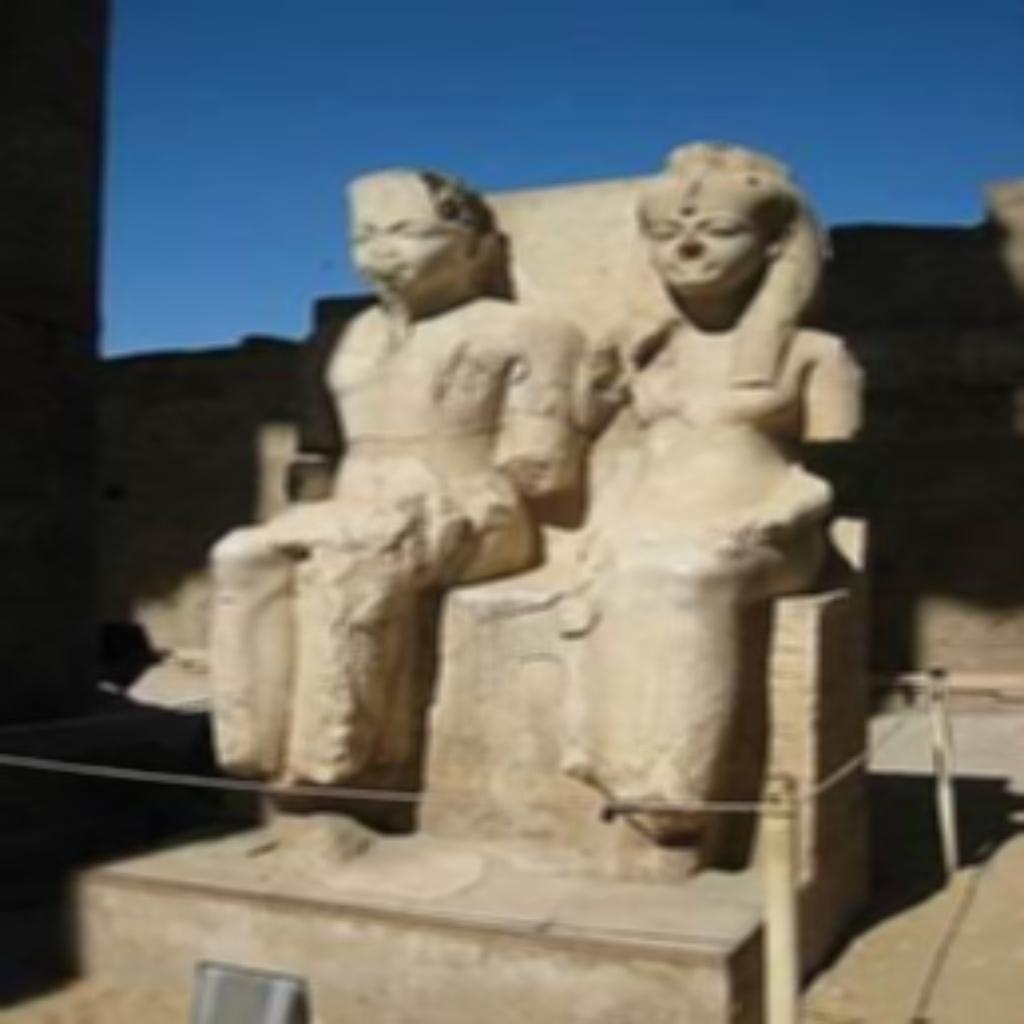Statue of Ankhesenamun: (544, 136, 873, 818)
Statue of Tutankhamun: (198, 160, 580, 794)
